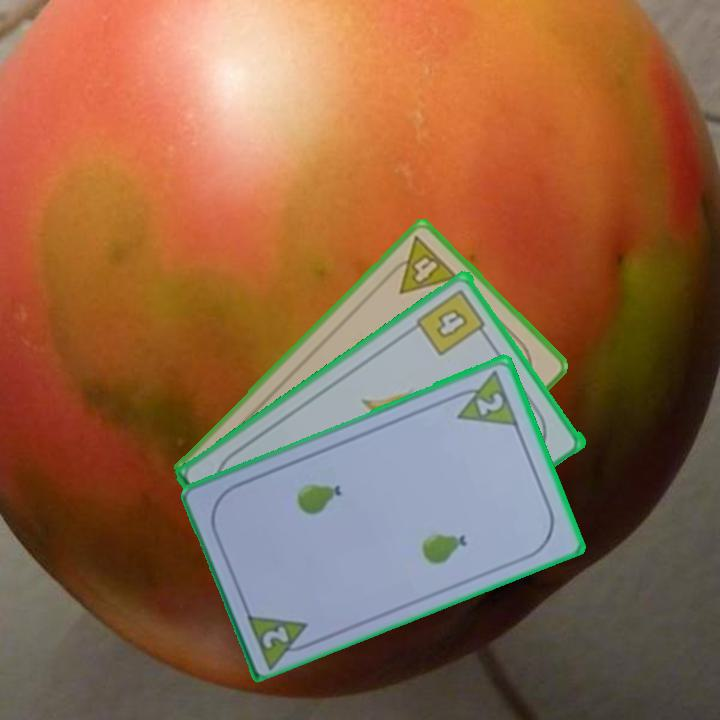2p: (447, 366, 522, 429), (258, 622, 293, 651)
4b: (413, 285, 492, 358)
4p: (381, 232, 462, 297)
